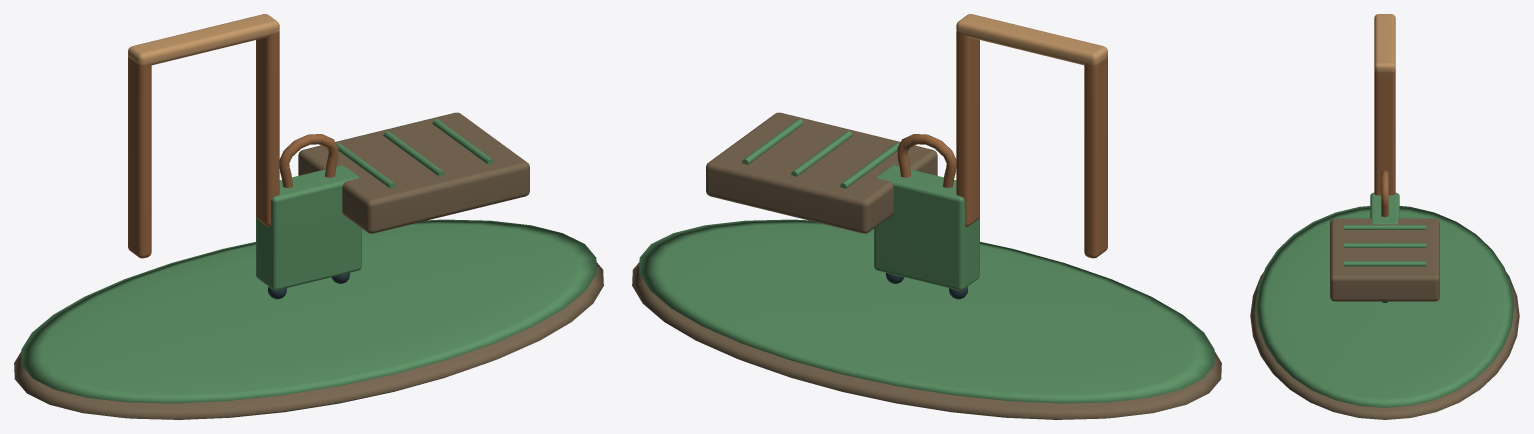
File: complete-second-gate-field-stay.glb
3 renders of one model, left to right at view 1: azimuth 30°, elevation 25°; view 2: azimuth 150°, elevation 25°; view 3: azimuth 270°, elevation 25°, orthographic. The views are drawn at different scales.
Visible parts, largest first — view 1: complete-second-gate-field-stay_surface_01, complete-second-gate-field-stay_surface_00, complete-second-gate-field-stay_surface_02, complete-second-gate-field-stay_surface_03; view 2: complete-second-gate-field-stay_surface_01, complete-second-gate-field-stay_surface_00, complete-second-gate-field-stay_surface_02, complete-second-gate-field-stay_surface_03; view 3: complete-second-gate-field-stay_surface_01, complete-second-gate-field-stay_surface_00, complete-second-gate-field-stay_surface_02, complete-second-gate-field-stay_surface_03.
Boxes of the visible parts, left/top/right/bottom form: complete-second-gate-field-stay_surface_01: left=21, top=119, right=596, bottom=403; complete-second-gate-field-stay_surface_00: left=14, top=112, right=603, bottom=419; complete-second-gate-field-stay_surface_02: left=128, top=31, right=338, bottom=258; complete-second-gate-field-stay_surface_03: left=128, top=14, right=279, bottom=65; complete-second-gate-field-stay_surface_01: left=639, top=119, right=1214, bottom=403; complete-second-gate-field-stay_surface_00: left=632, top=112, right=1221, bottom=419; complete-second-gate-field-stay_surface_02: left=897, top=31, right=1107, bottom=258; complete-second-gate-field-stay_surface_03: left=956, top=14, right=1107, bottom=65; complete-second-gate-field-stay_surface_01: left=1255, top=192, right=1514, bottom=407; complete-second-gate-field-stay_surface_00: left=1250, top=218, right=1519, bottom=419; complete-second-gate-field-stay_surface_02: left=1374, top=71, right=1395, bottom=216; complete-second-gate-field-stay_surface_03: left=1374, top=14, right=1395, bottom=72.
Size of the model in its own units: 4.56 by 2.57 by 2.5.
